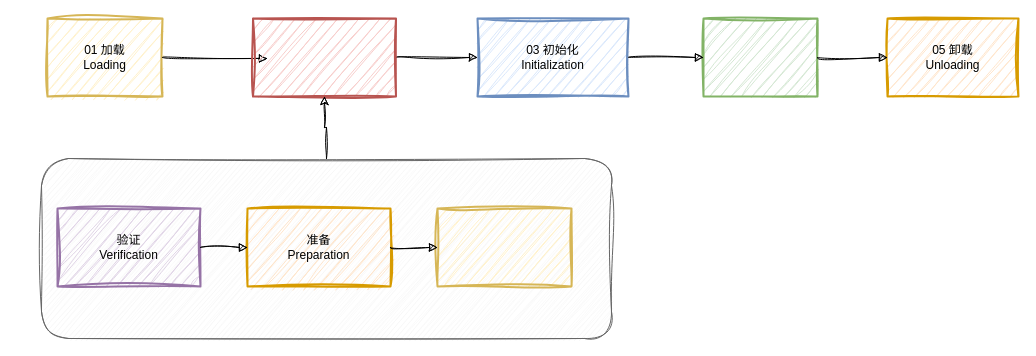
Some shapes in this 1036 by 356 pixel diagram are drawn without their labels. Here are the shapes that lost their labels. From the top down, the centre of each, then its label:
At (324,57): "02 连接 Linking".
At (760,57): "04 使用 Using".
At (504,247): "解析 Resolution".
